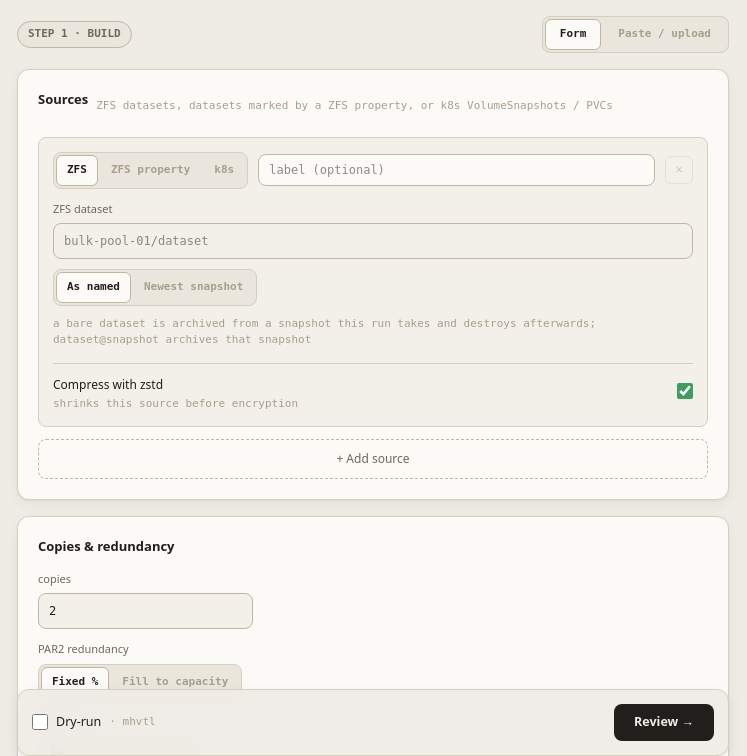
ConfigPage › blocks a bare non-object JSON document at Review instead of a dead review step
The width and height of the screenshot is (747, 756).
expect the element named "config input mode" is shown: met, box [542,16,729,52]
Click the button "Paste / upload" at (665, 34), box [603,19,726,50]
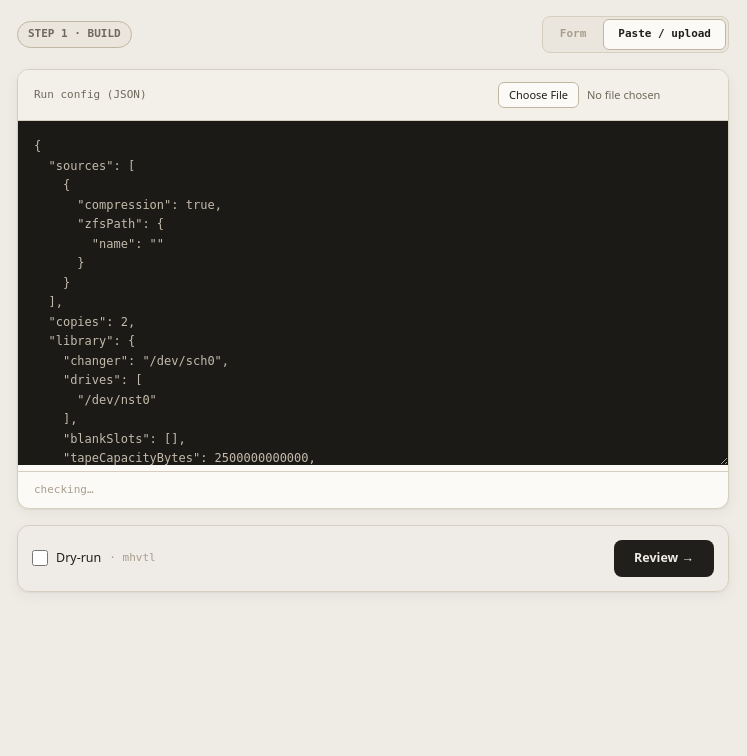
Replace the text in the text box labelled "Run config (JSON)" with "0" at (373, 293), box [18,121,728,465]
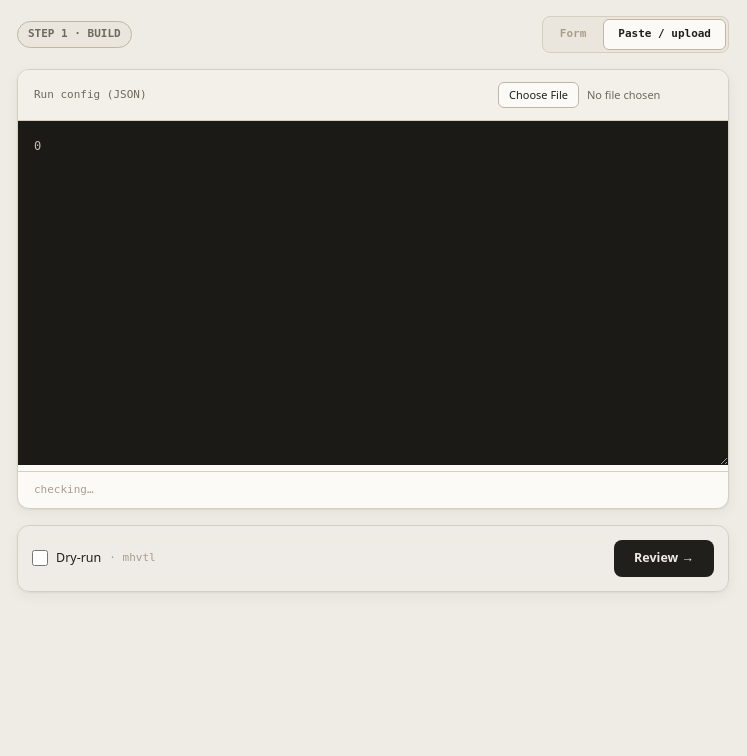
Click the button "Review →" at (664, 559), box [614,540,714,577]
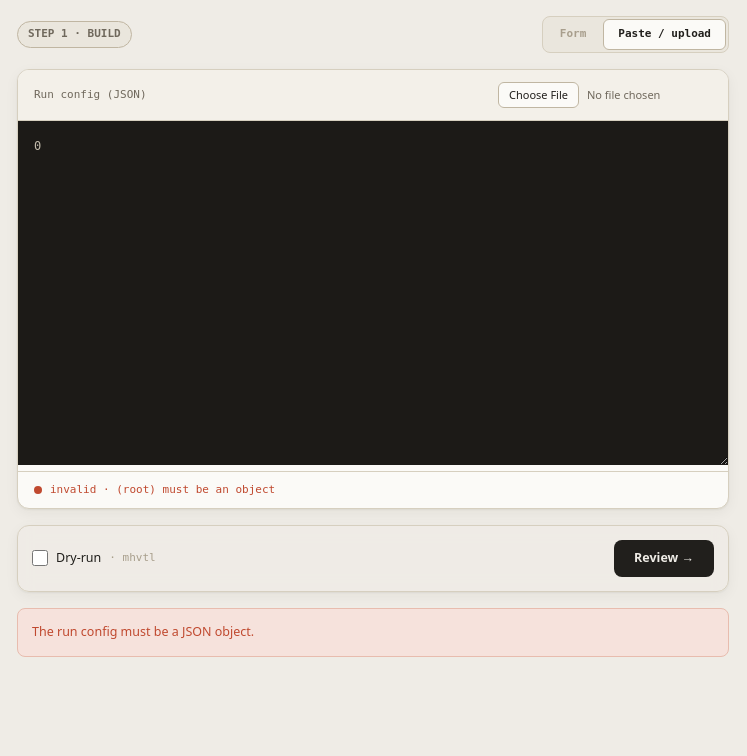
expect the message "The run config must be a JSON object." is shown: met, box [17,608,729,657]
